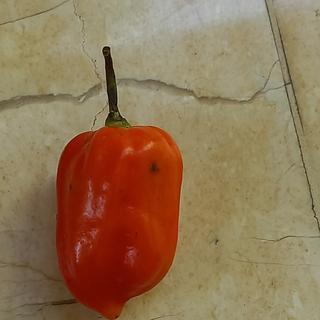Fly-bites: (142, 156, 167, 180)
